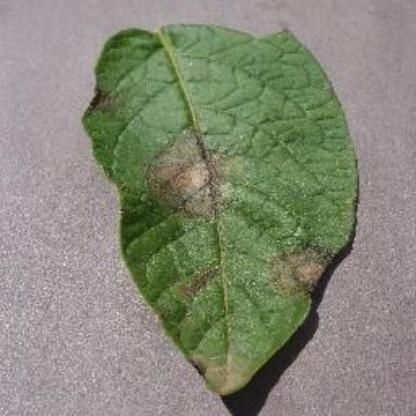Late-Blight: (69, 13, 364, 403)
